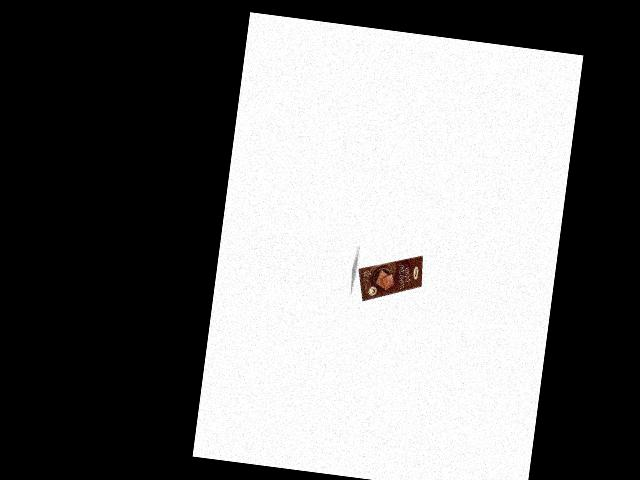chocolate: (351, 246, 426, 310)
